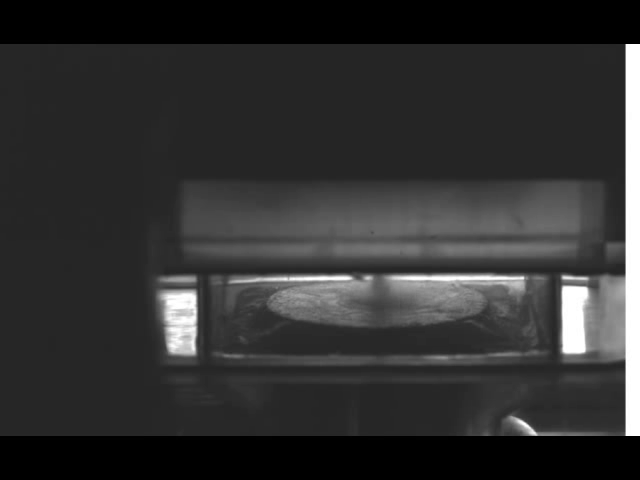Zona de teste: (264, 279, 490, 331)
